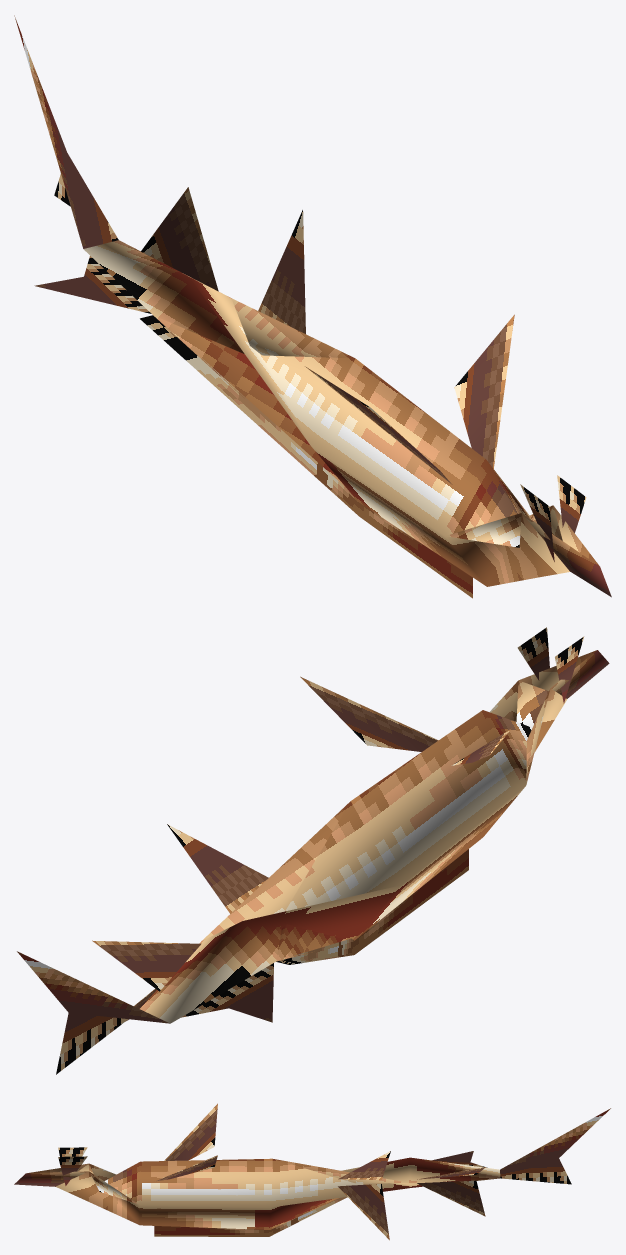
3 views of the same model, one above another, from view 1: azimuth 30°, elevation 25°; view 2: azimuth 150°, elevation 25°; view 3: azimuth 270°, elevation 25° (orthographic). The views are drawn at different scales.
Parts seen in each view (by area): view 1: 2080_fish10; view 2: 2080_fish10; view 3: 2080_fish10.
Boxes of the visible parts, left/top/right/bottom form: 2080_fish10: left=14, top=15, right=611, bottom=598; 2080_fish10: left=17, top=627, right=609, bottom=1074; 2080_fish10: left=14, top=1103, right=610, bottom=1240.
Size of the model in its own units: 0.2515 by 0.2693 by 1.14.
Materials: 1 (1 with a texture image).
